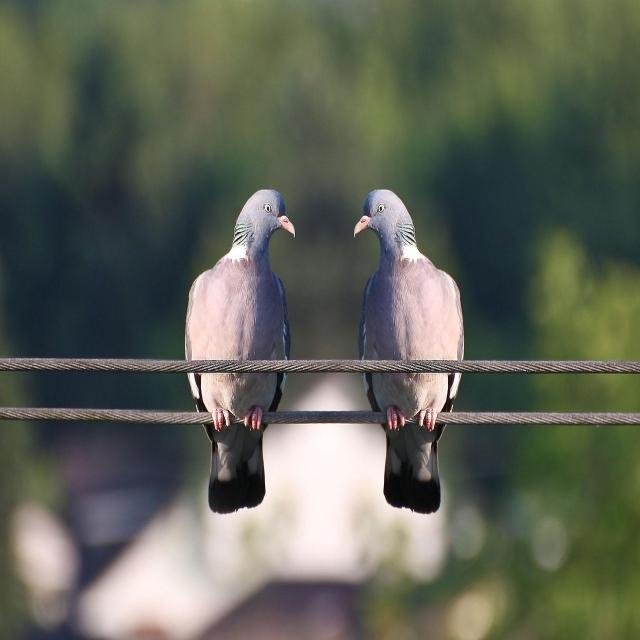pegion: (351, 148, 514, 537), (151, 150, 308, 538)
